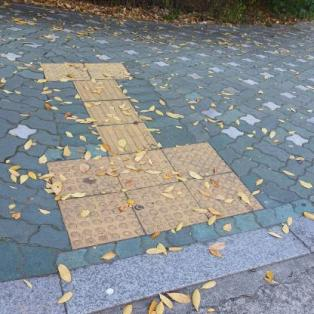Podoctatil: (33, 58, 269, 255)
